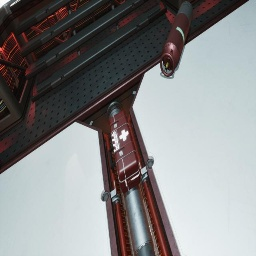FireExtinguisher ]: (0, 161, 3, 169)
FirstAidBox ,: (108, 110, 140, 194)
NitrogenTank ,: (160, 1, 193, 77)
